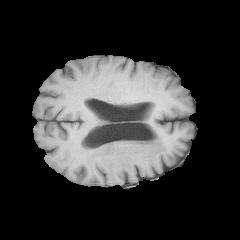glioma: (81, 135, 166, 169)
